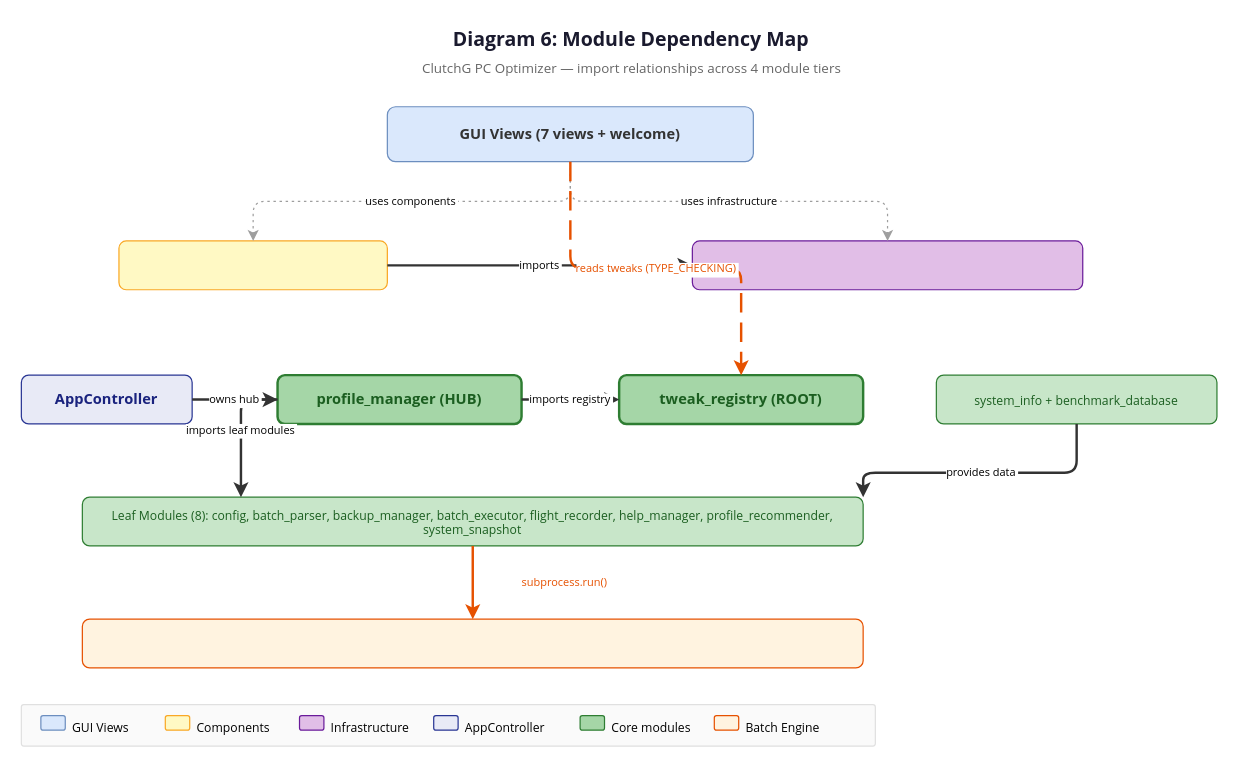
Some shapes in this 1238 by 767 pixel diagram are drawn without their labels. Each missing label, with the box of its shape:
Batch Engine (src/*.bat): (81, 618, 863, 668)
GUI Components (12 shared): (118, 240, 387, 290)
GUI Infrastructure (theme, style, icons, fonts): (691, 240, 1083, 290)
